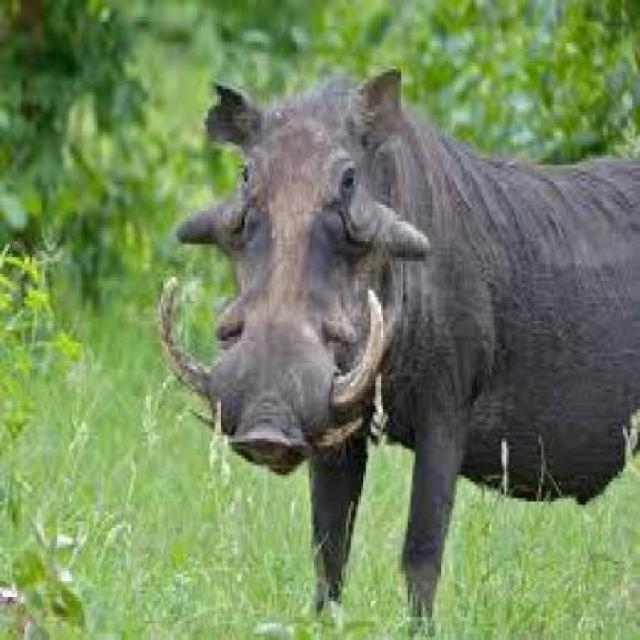wildboar: (152, 61, 639, 640)
